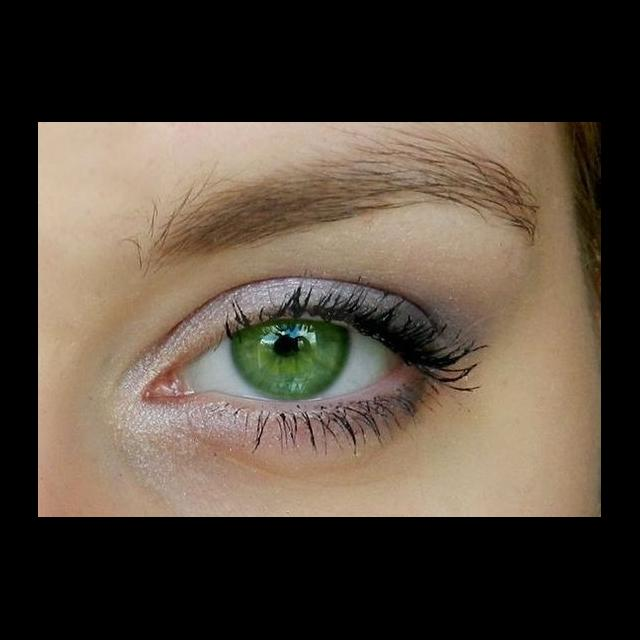eye: (183, 314, 403, 405)
iris: (234, 319, 353, 401)
